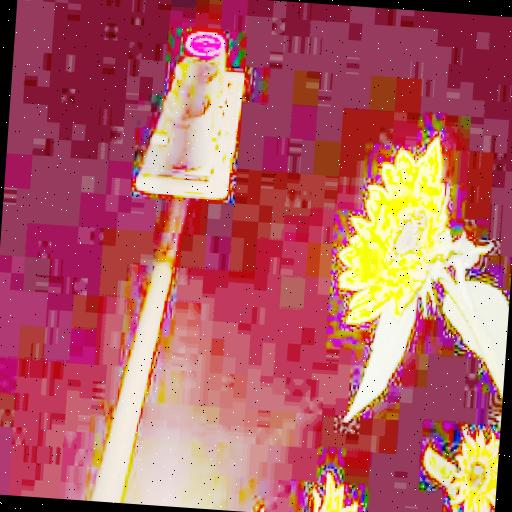sunflower: (336, 132, 455, 331)
